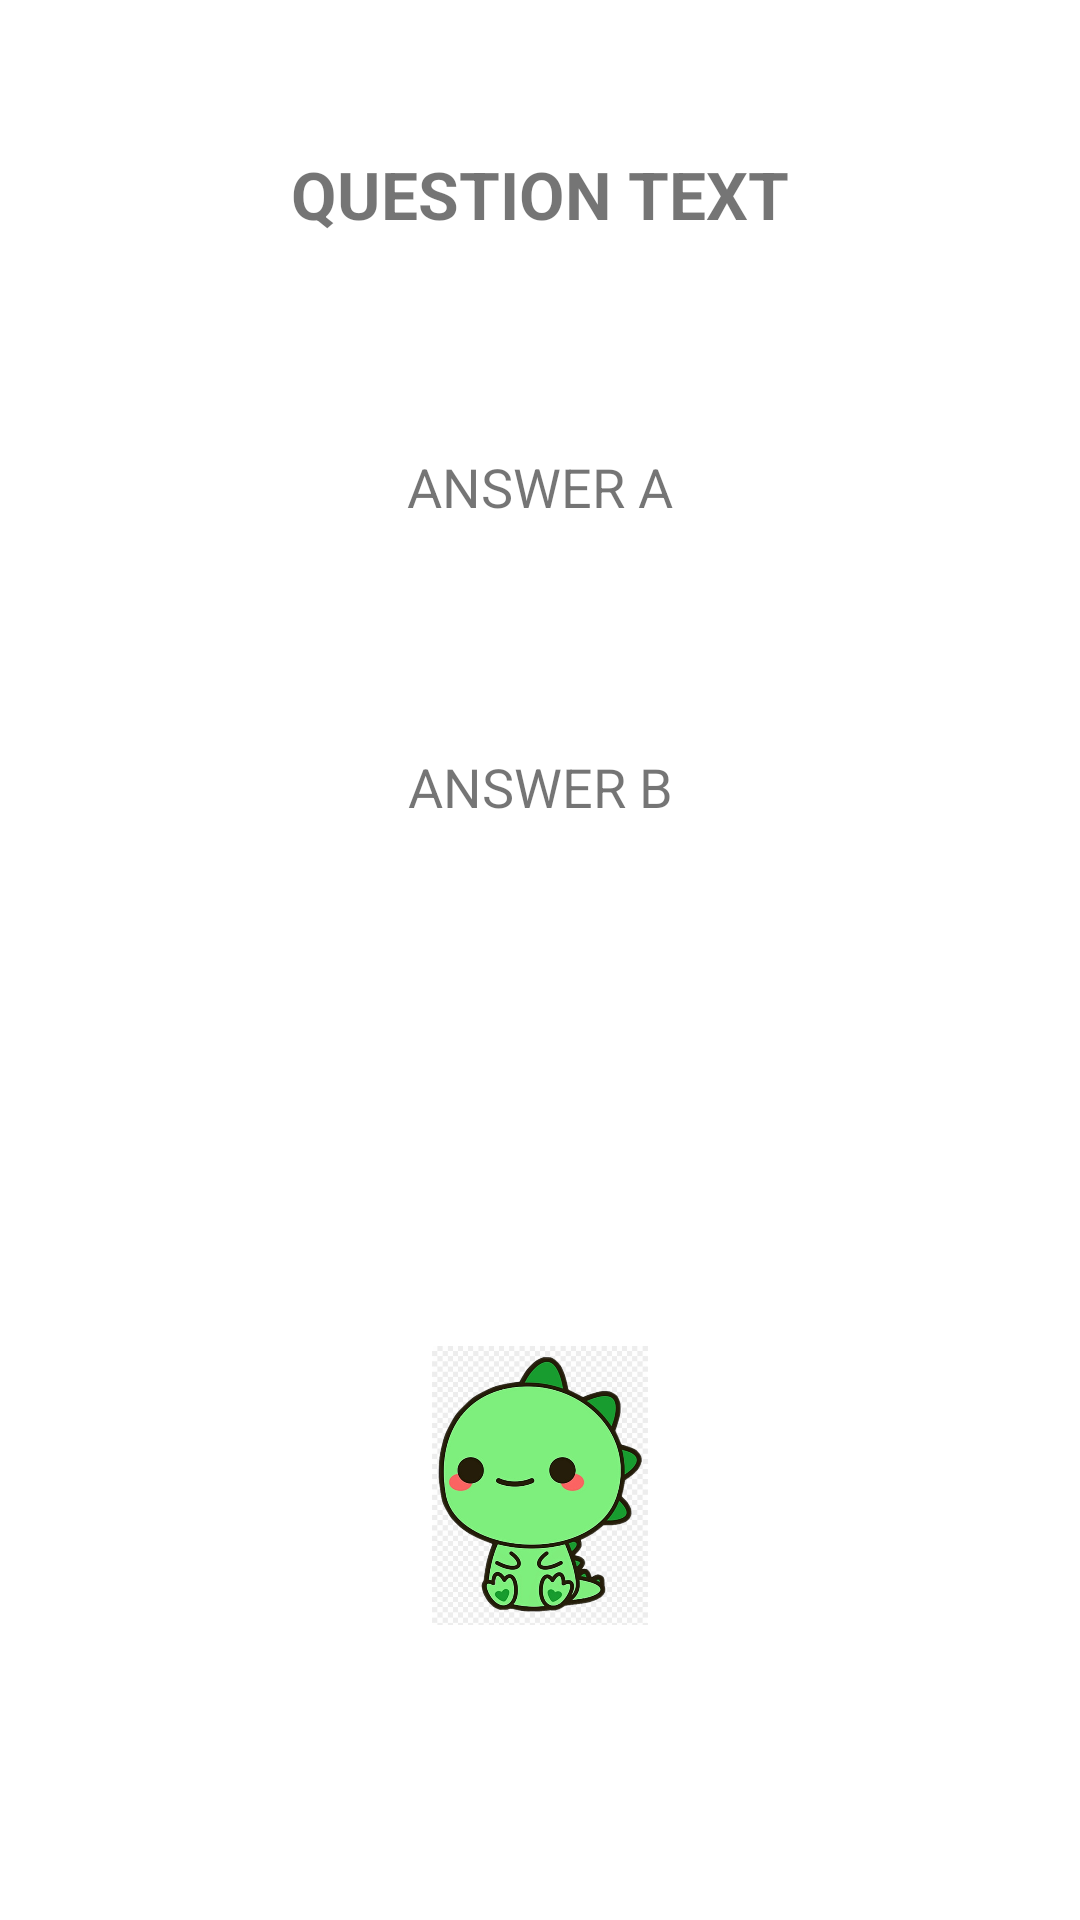

Screen size 1080 × 1920. Icon name, then its box in pixels as {"x1": x1, "y1": y1, "x2": x2, "y2": y2}:
dino: {"x1": 438, "y1": 1357, "x2": 642, "y2": 1612}
